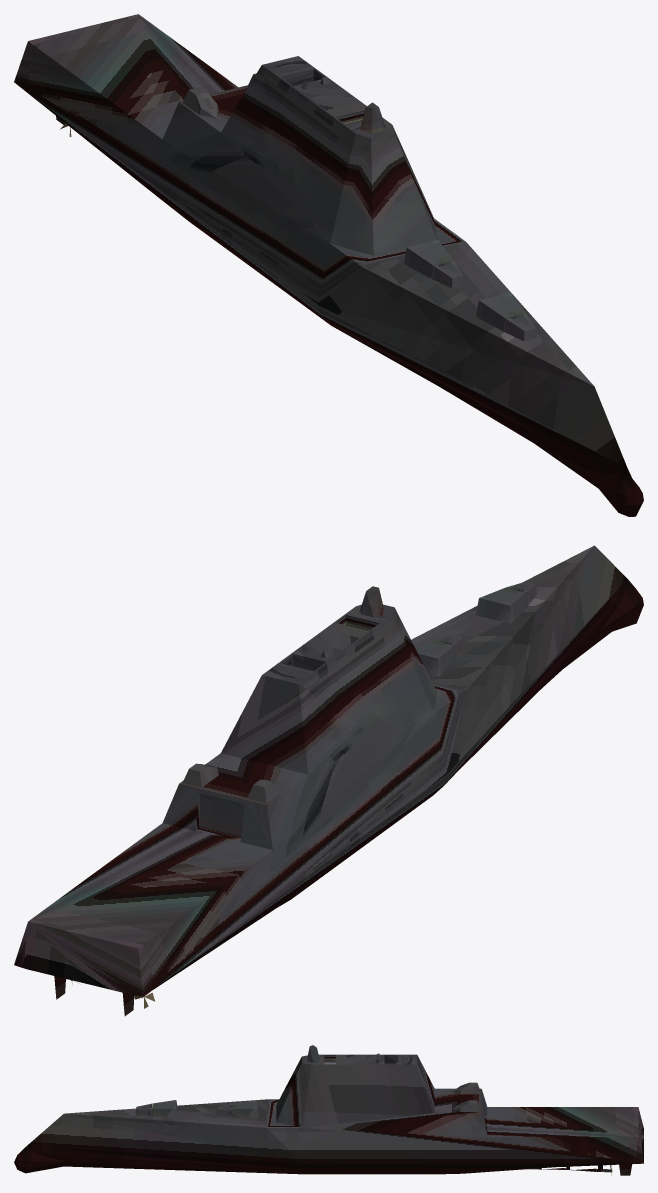
3 renders of one model, top to bottom at view 1: azimuth 30°, elevation 25°; view 2: azimuth 150°, elevation 25°; view 3: azimuth 270°, elevation 25°, orthographic. The views are drawn at different scales.
Visible parts, largest first — view 1: Hull_0; view 2: Hull_0; view 3: Hull_0.
Part boxes in pixels (x1,y1,x2,y2): Hull_0: [14, 14, 643, 516]; Hull_0: [14, 545, 643, 1016]; Hull_0: [14, 1045, 643, 1175].
Bounding box in the file's own units: 3.52 × 5.84 × 26.48.
Materials: 1 (1 with a texture image).
